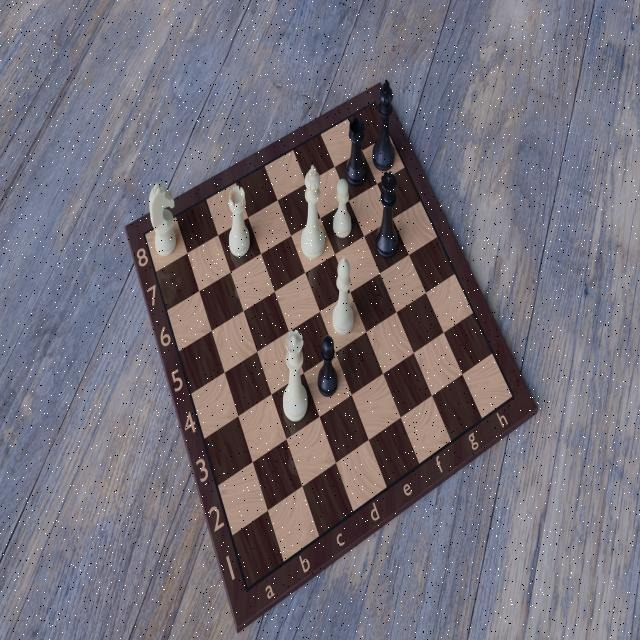black-king: (371, 76, 397, 176)
black-pawn: (315, 333, 340, 398)
black-queen: (374, 172, 401, 264)
black-rook: (343, 113, 368, 191)
white-bishop: (331, 251, 356, 336)
white-king: (299, 162, 328, 265)
white-knight: (148, 181, 180, 263)
white-pawn: (330, 177, 354, 242)
white-queen: (279, 324, 311, 427)
white-rook: (226, 182, 253, 263)
